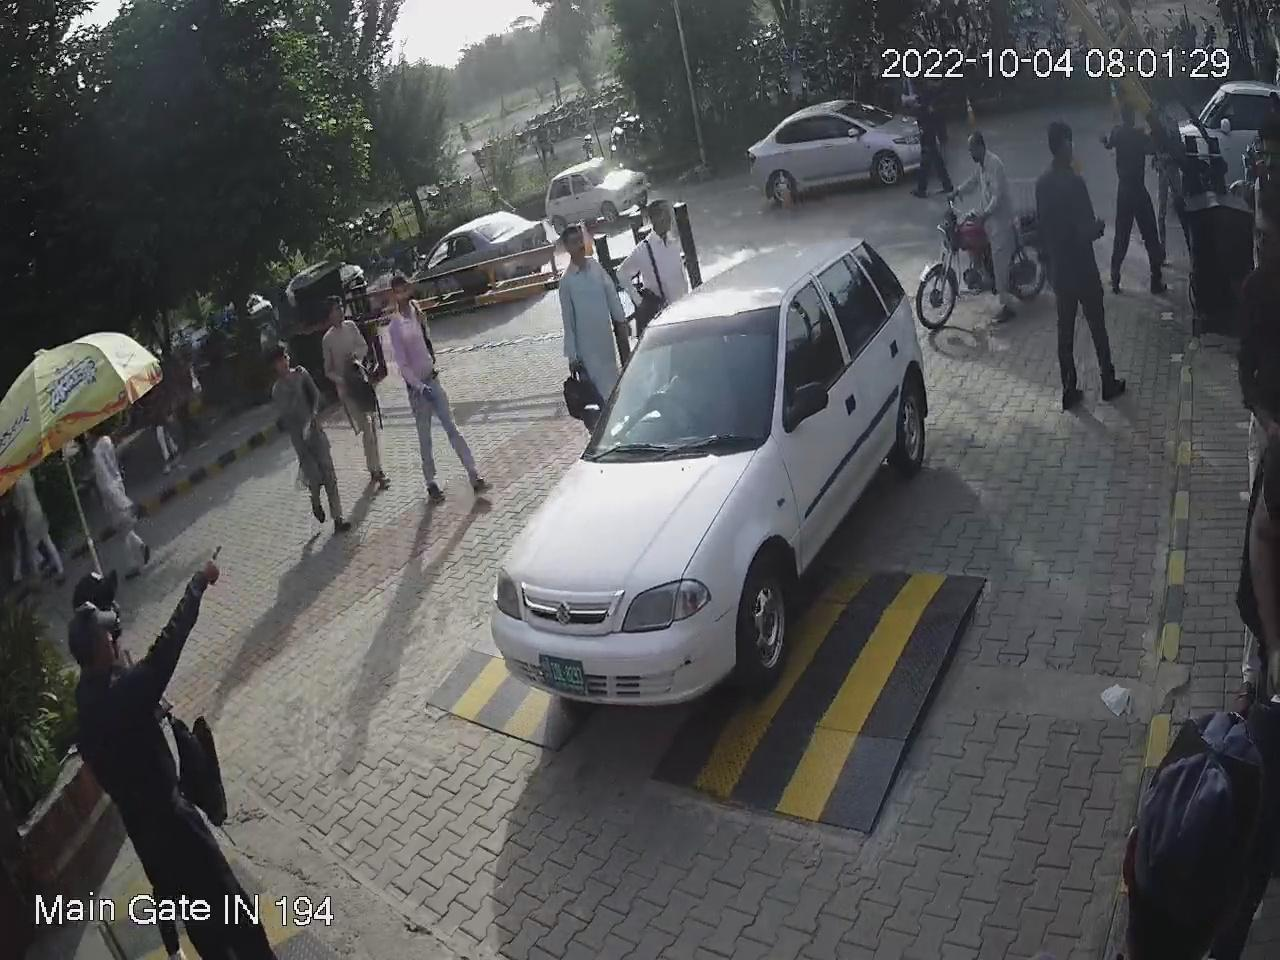windshield: (578, 290, 783, 465)
